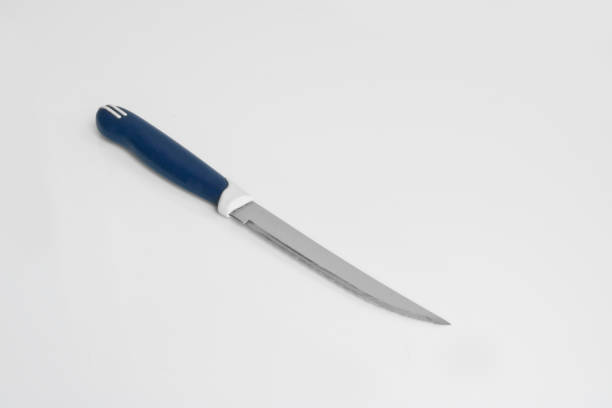knife: (93, 102, 451, 328)
